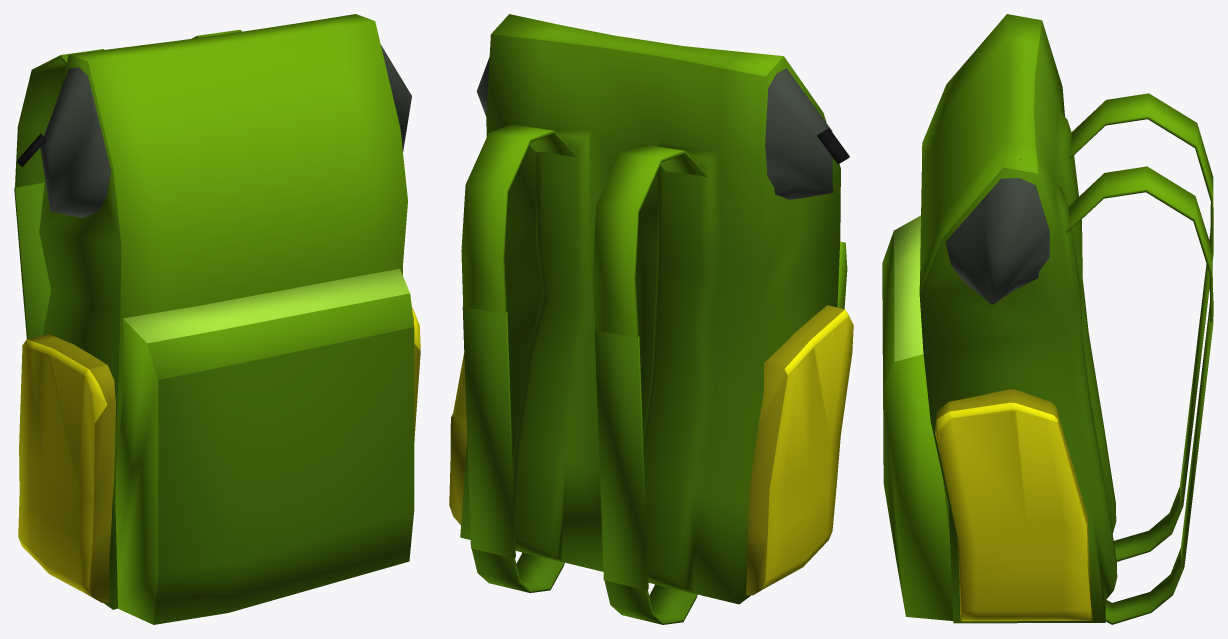
The model's file is SM_BackPack_48.fbx.
3 renders of one model, left to right at view 1: azimuth 30°, elevation 25°; view 2: azimuth 150°, elevation 25°; view 3: azimuth 270°, elevation 25°, orthographic. The views are drawn at different scales.
Parts seen in each view (by area): view 1: SM_BackPack_48; view 2: SM_BackPack_48; view 3: SM_BackPack_48.
Boxes of the visible parts, x1,y1,x2,y2 form: SM_BackPack_48: [14, 14, 420, 624]; SM_BackPack_48: [449, 14, 853, 624]; SM_BackPack_48: [882, 14, 1213, 624].
Bounding box in the file's own units: 107 × 148 × 87.05.
